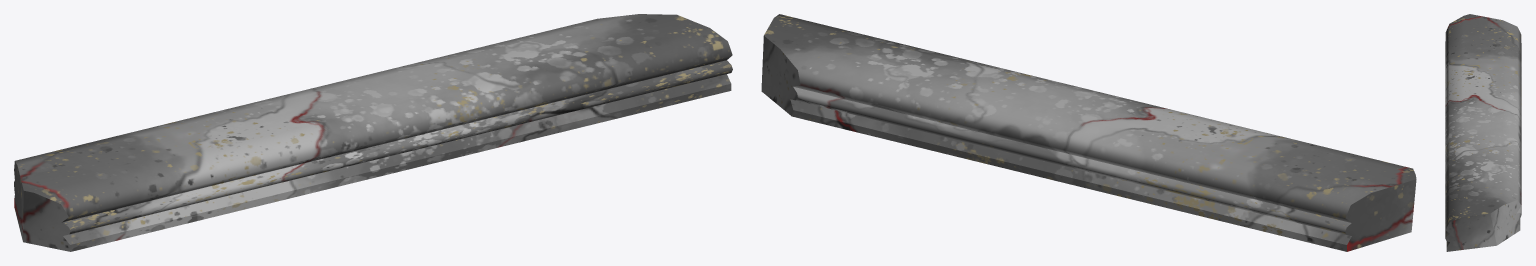
File: Broken_Railing_4_FINAL.fbx
3 views of the same model, side by side, from view 1: azimuth 30°, elevation 25°; view 2: azimuth 150°, elevation 25°; view 3: azimuth 270°, elevation 25° (orthographic). The views are drawn at different scales.
Parts seen in each view (by area): view 1: Broken_Railing_4; view 2: Broken_Railing_4; view 3: Broken_Railing_4.
Part boxes in pixels (box(x1,y1,x2,y2)): Broken_Railing_4: box(14, 14, 732, 251); Broken_Railing_4: box(761, 14, 1416, 251); Broken_Railing_4: box(1445, 14, 1521, 251).
Bounding box in the file's own units: 139 × 10.43 × 21.8.
